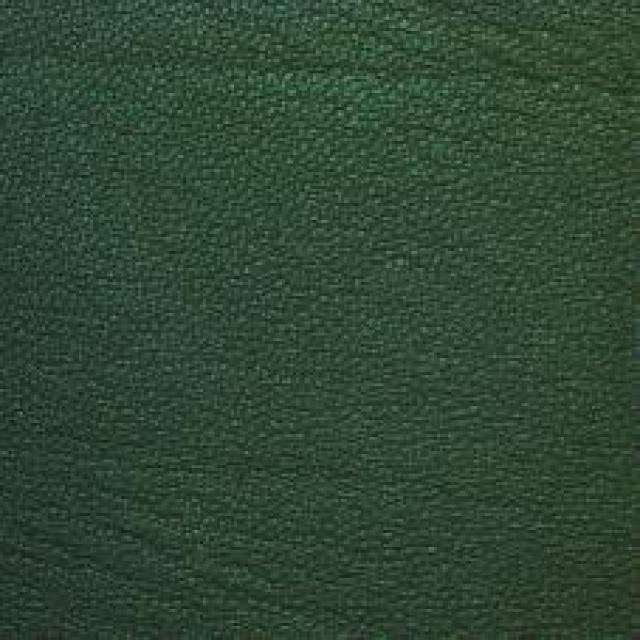Growth Marks: (197, 30, 579, 130)
